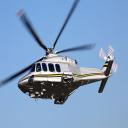helicopter: (1, 2, 119, 106)
